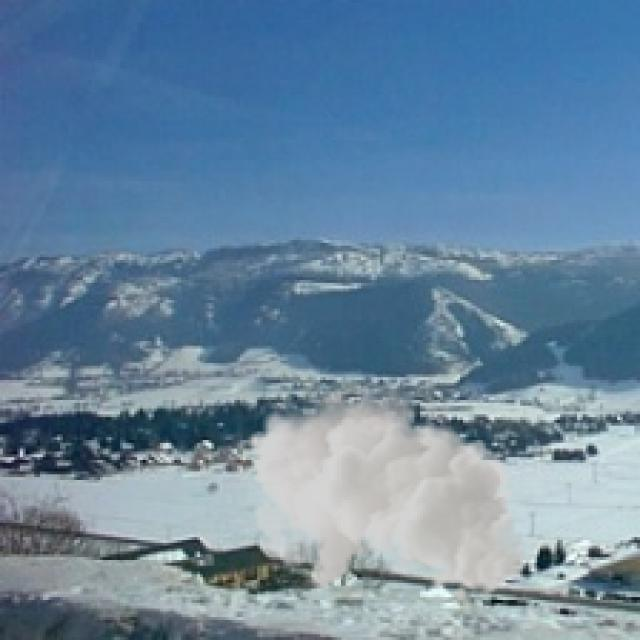smoke: (245, 380, 526, 603)
